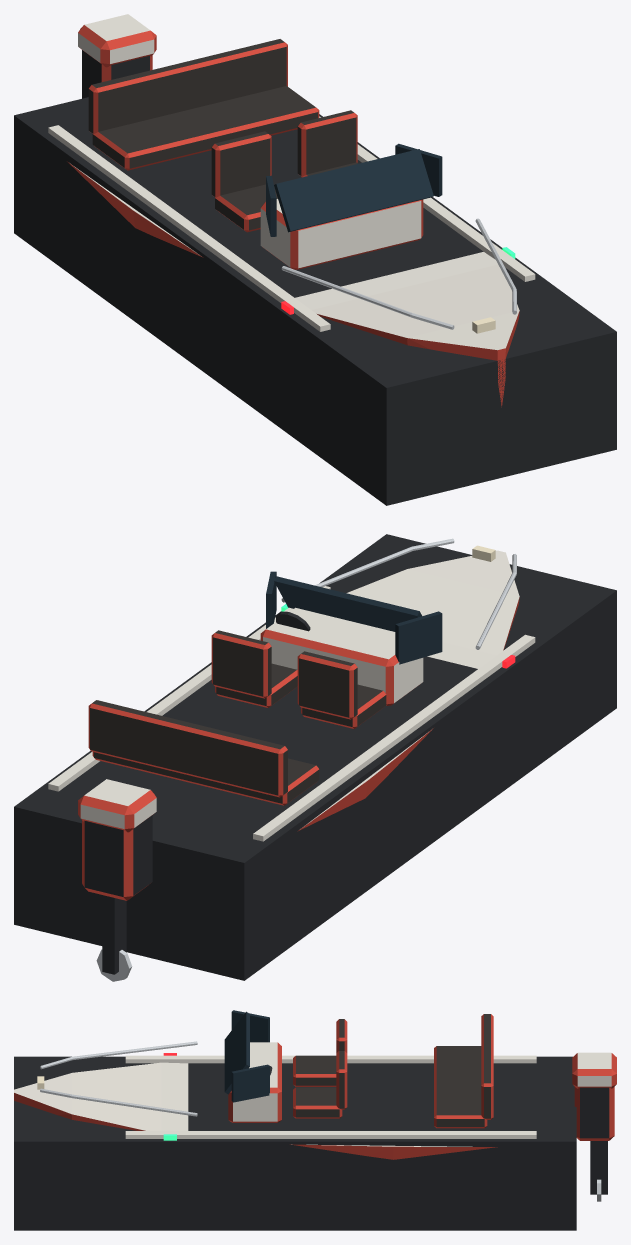
Rendered from VEH_Speedboat.fbx.
3 views of the same model, one above another, from view 1: azimuth 30°, elevation 25°; view 2: azimuth 150°, elevation 25°; view 3: azimuth 270°, elevation 25° (orthographic). The views are drawn at different scales.
Visible parts, largest first — view 1: VEH_Speedboat__COL_Hull, VEH_Speedboat__BODY; view 2: VEH_Speedboat__COL_Hull, VEH_Speedboat__BODY; view 3: VEH_Speedboat__COL_Hull, VEH_Speedboat__BODY.
Part boxes in pixels (x1,y1,x2,y2): VEH_Speedboat__COL_Hull: (14,97,616,505); VEH_Speedboat__BODY: (48,14,535,407); VEH_Speedboat__COL_Hull: (14,534,616,980); VEH_Speedboat__BODY: (48,538,535,981); VEH_Speedboat__COL_Hull: (14,1056,576,1230); VEH_Speedboat__BODY: (14,1010,616,1201).
Size of the model in its own units: 2.3 by 2.02 by 6.75.
